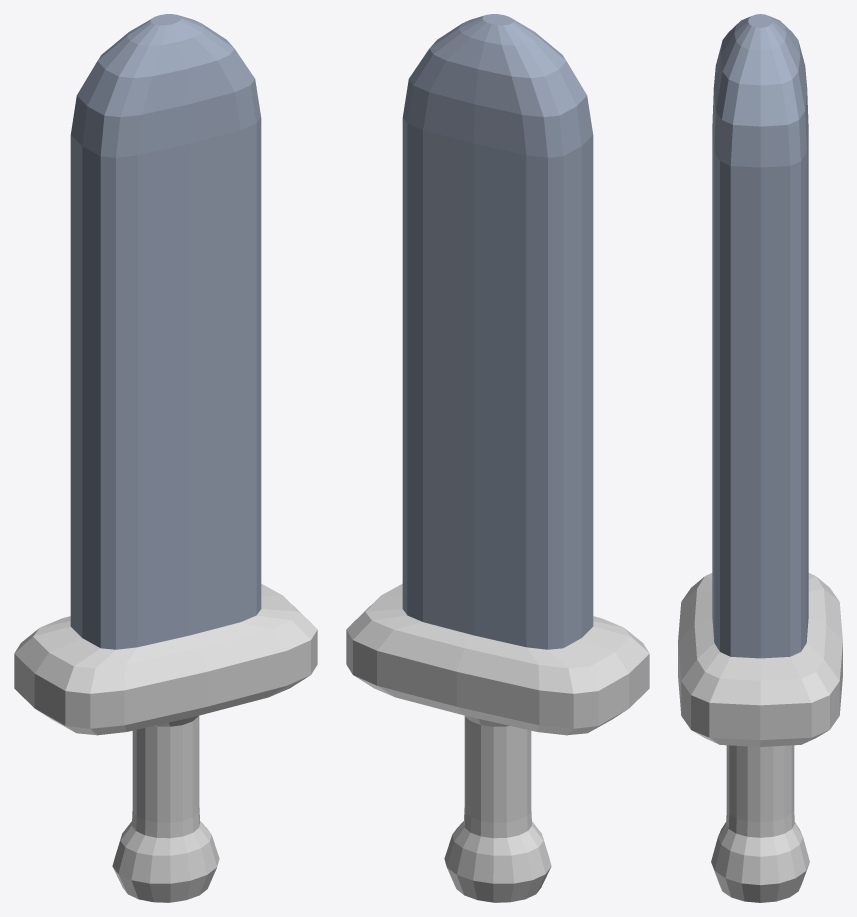
File: BE_PowerMesh_FxBladeChunky.fbx
3 renders of one model, left to right at view 1: azimuth 30°, elevation 25°; view 2: azimuth 150°, elevation 25°; view 3: azimuth 270°, elevation 25°, orthographic.
Visible parts, largest first — view 1: BE_PowerMesh_FxBladeChunky; view 2: BE_PowerMesh_FxBladeChunky; view 3: BE_PowerMesh_FxBladeChunky.
Part boxes in pixels (x1,y1,x2,y2): BE_PowerMesh_FxBladeChunky: [14, 14, 317, 902]; BE_PowerMesh_FxBladeChunky: [346, 14, 649, 902]; BE_PowerMesh_FxBladeChunky: [678, 14, 842, 902].
Bounding box in the file's own units: 220 × 700 × 120.
Materials: 1 (1 with a texture image).
